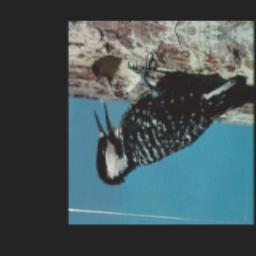Woodpecker: (89, 46, 252, 203)
